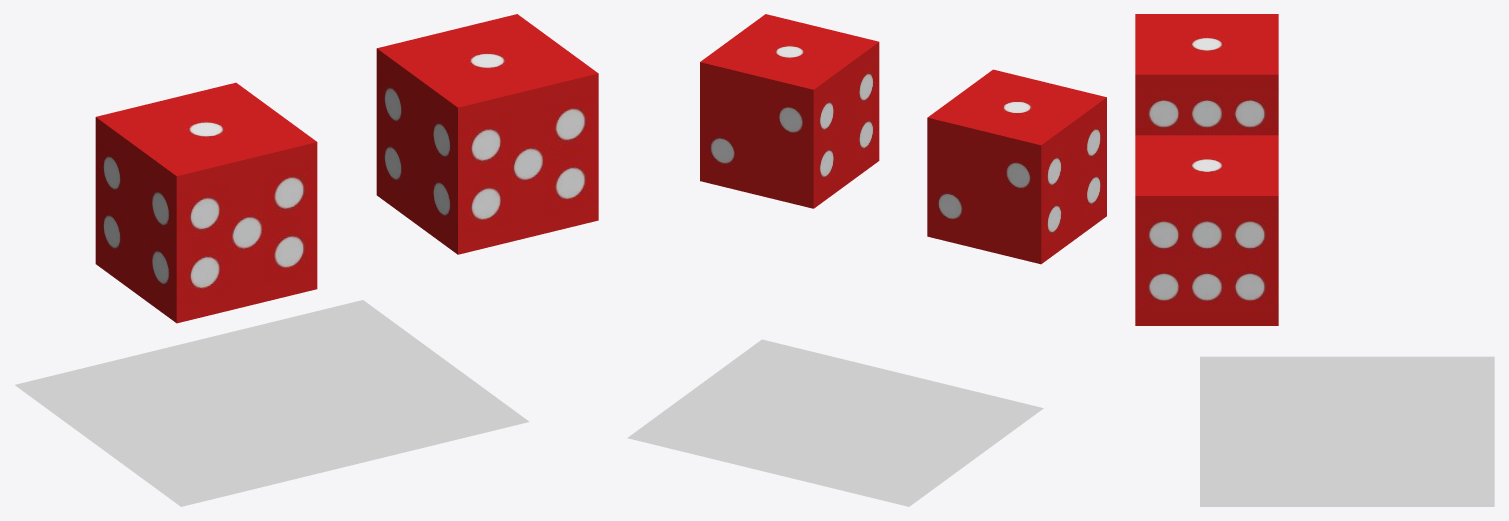
Rendered from dice_physic.dae.
The picture shows the model from 3 angles, left to right: view 1: azimuth 30°, elevation 25°; view 2: azimuth 150°, elevation 25°; view 3: azimuth 270°, elevation 25°; orthographic projection. The views are drawn at different scales.
Parts seen in each view (by area): view 1: Plane, pCube1, pCube2; view 2: Plane, pCube1, pCube2; view 3: Plane, pCube1, pCube2.
Boxes of the visible parts, bbox=[...] form: Plane: bbox=[15, 300, 529, 506]; pCube1: bbox=[376, 14, 598, 254]; pCube2: bbox=[95, 82, 317, 323]; Plane: bbox=[627, 339, 1043, 506]; pCube1: bbox=[700, 14, 879, 208]; pCube2: bbox=[927, 69, 1106, 264]; Plane: bbox=[1200, 356, 1494, 506]; pCube1: bbox=[1135, 135, 1278, 325]; pCube2: bbox=[1135, 14, 1278, 135].
Bounding box in the file's own units: 30 × 24.98 × 25.06.
